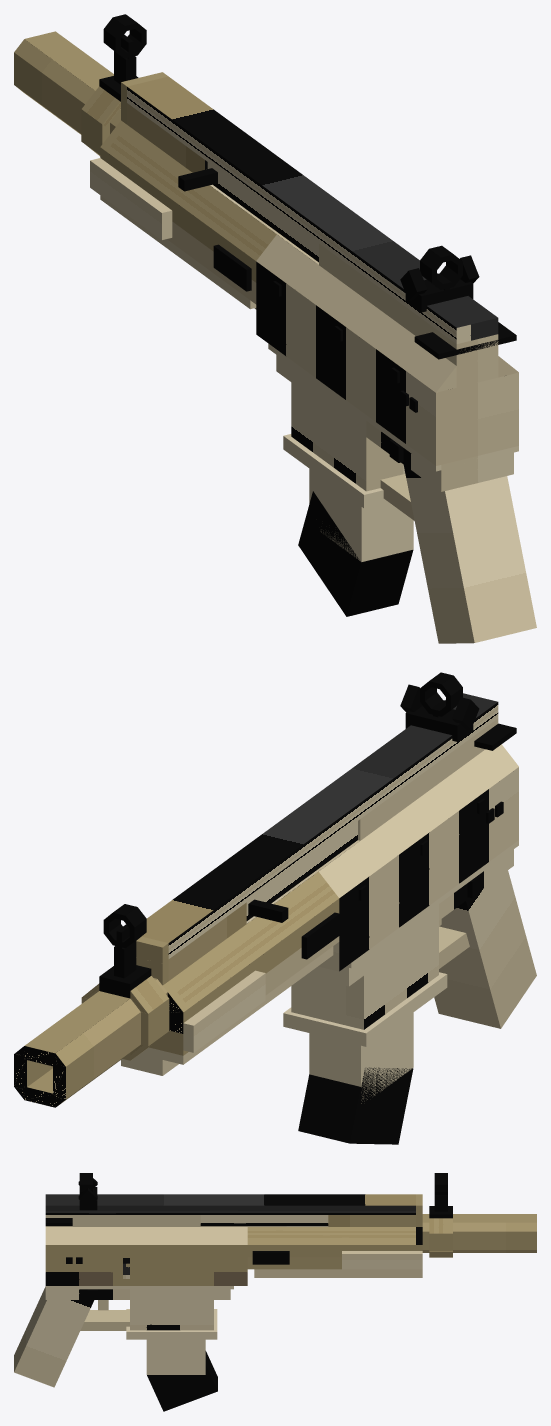
The model's file is mteg_scar_l.glb.
3 views of the same model, one above another, from view 1: azimuth 30°, elevation 25°; view 2: azimuth 150°, elevation 25°; view 3: azimuth 270°, elevation 25° (orthographic). The views are drawn at different scales.
Parts seen in each view (by area): view 1: Gun; view 2: Gun; view 3: Gun.
Part boxes in pixels (left/top/right/bottom): Gun: left=14, top=14, right=536, bottom=643; Gun: left=14, top=672, right=536, bottom=1144; Gun: left=14, top=1173, right=536, bottom=1411.
Size of the model in its own units: 0.1375 by 0.4711 by 0.9714.
Materials: 1 (1 with a texture image).
